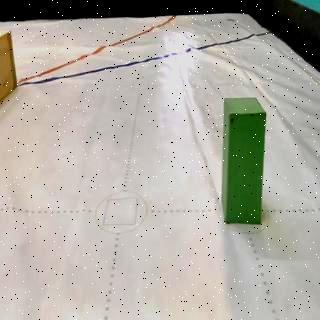greenbox: (221, 96, 268, 226)
